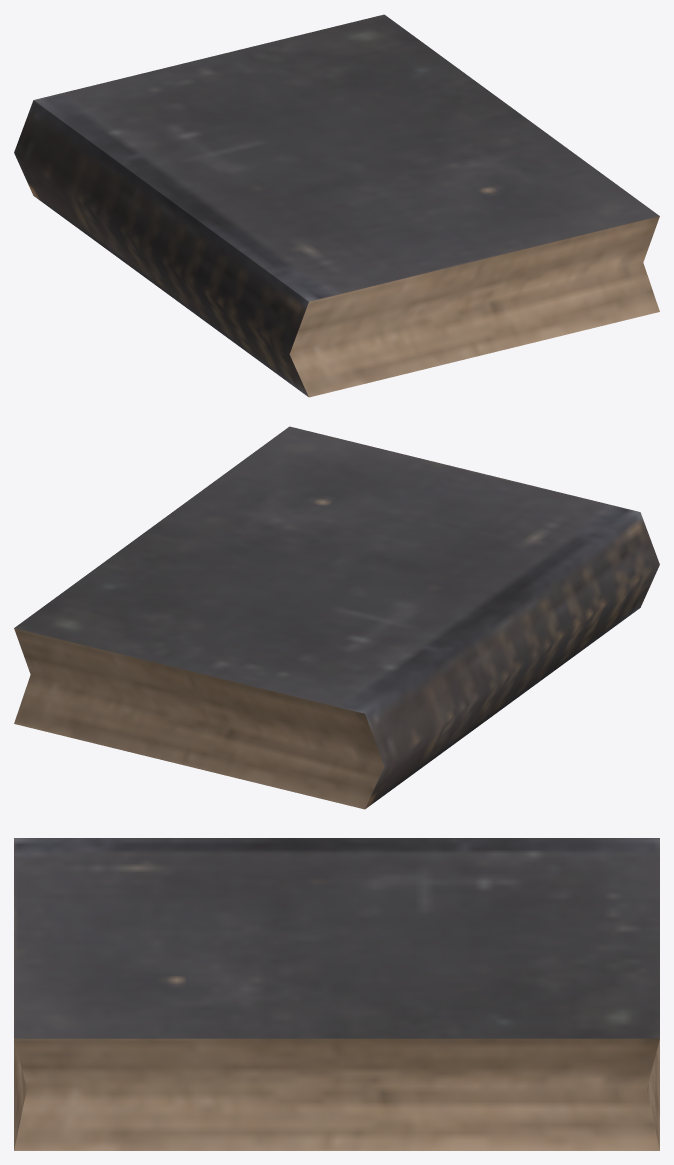
The model's file is Book_C.fbx.
The picture shows the model from 3 angles, top to bottom: view 1: azimuth 30°, elevation 25°; view 2: azimuth 150°, elevation 25°; view 3: azimuth 270°, elevation 25°; orthographic projection. The views are drawn at different scales.
Parts seen in each view (by area): view 1: Book_C; view 2: Book_C; view 3: Book_C.
Boxes of the visible parts, box(x1,y1,x2,y2) form: Book_C: box(14, 14, 659, 397); Book_C: box(14, 426, 659, 809); Book_C: box(14, 838, 659, 1150).
Bounding box in the file's own units: 0.3727 × 0.092 × 0.4802.
